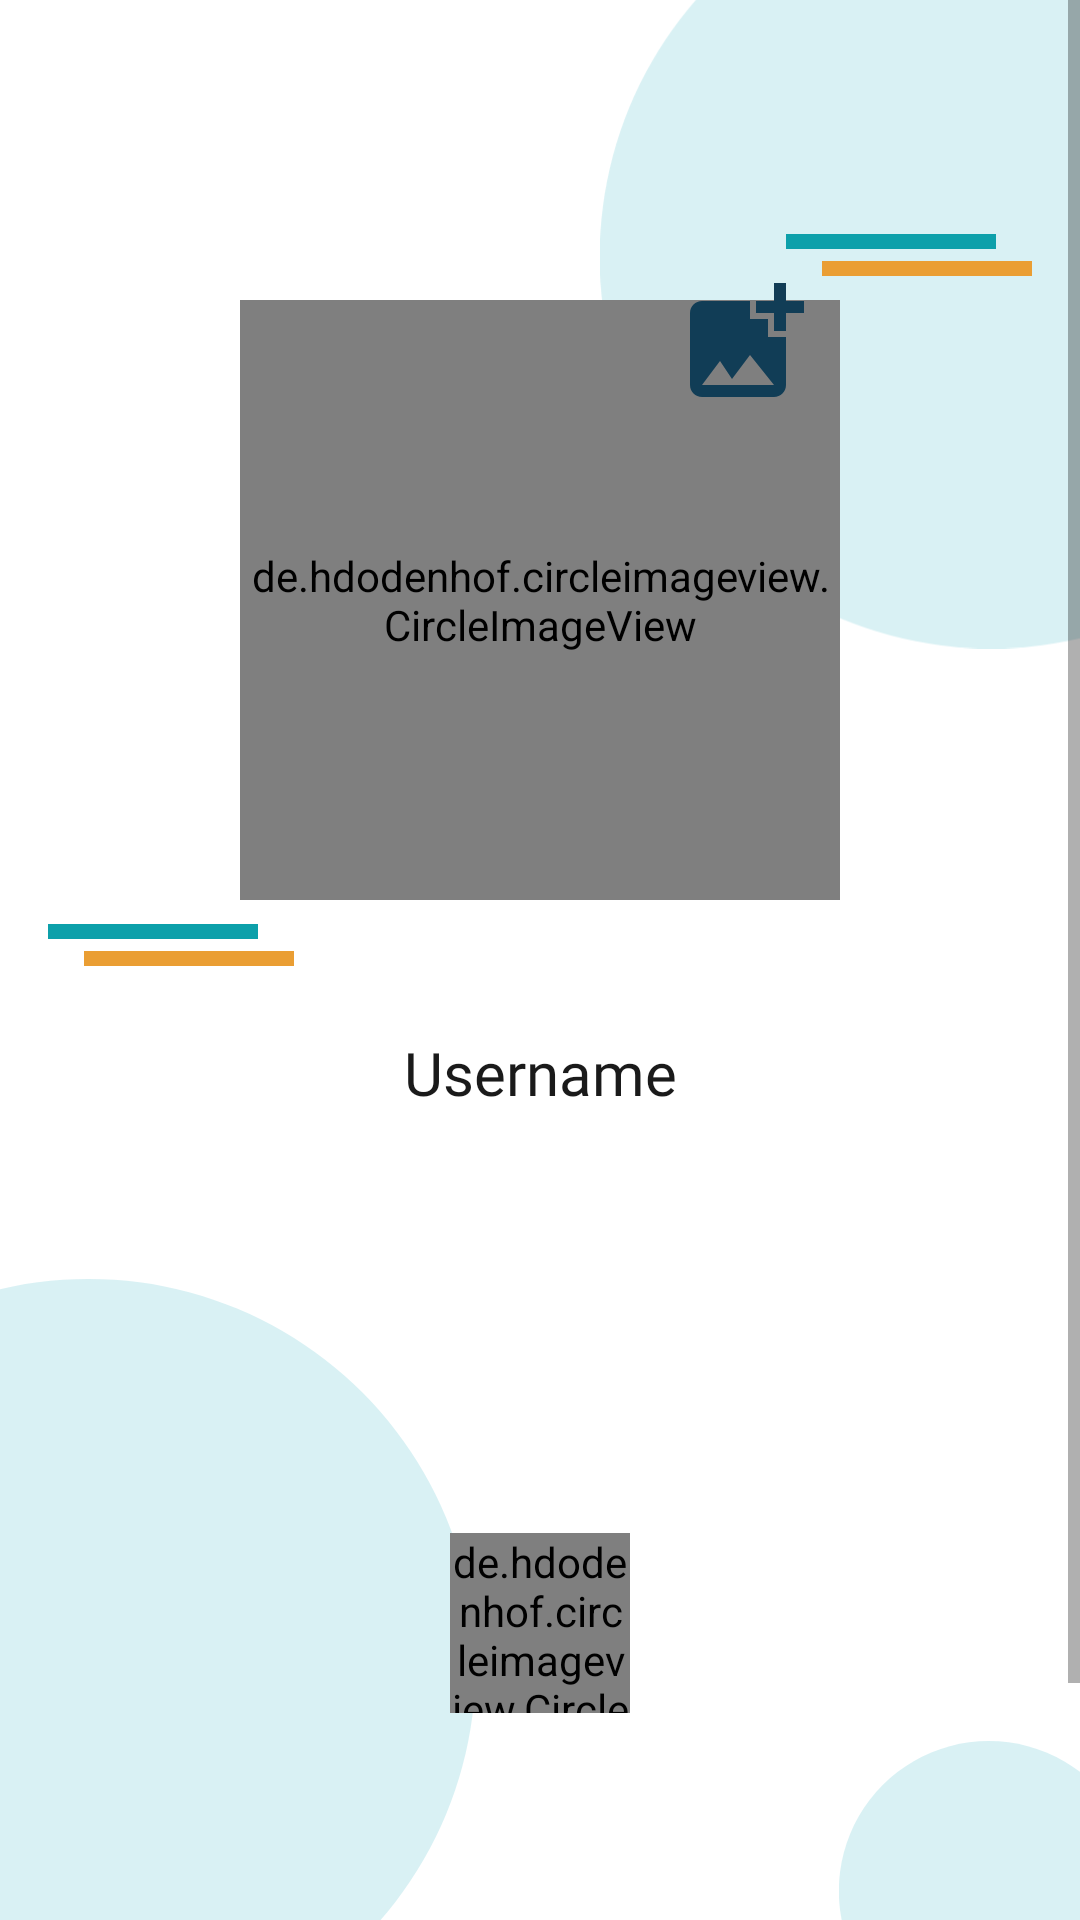

Icon click points for this 1080x1920 phone screenshot, format (x,y):
add photo alternate: (738,349)
